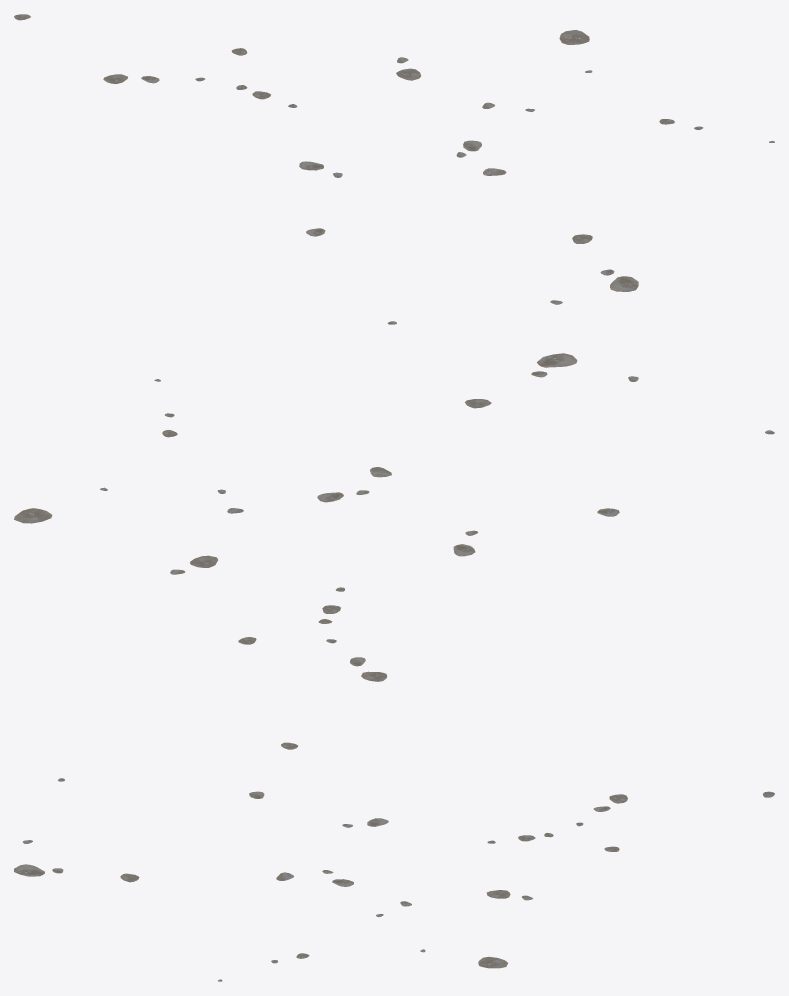
Rendered from pref_sm_beach_sandstone01_lv3.fbx.
The picture shows the model from 3 angles, top to bottom: view 1: azimuth 30°, elevation 25°; view 2: azimuth 150°, elevation 25°; view 3: azimuth 270°, elevation 25°; orthographic projection. The views are drawn at different scales.
Parts seen in each view (by area): view 1: pref_sm_beach_sandstone01_lv3; view 2: pref_sm_beach_sandstone01_lv3; view 3: pref_sm_beach_sandstone01_lv3.
Boxes of the visible parts, left/top/right/bottom form: pref_sm_beach_sandstone01_lv3: left=14, top=14, right=774, bottom=324; pref_sm_beach_sandstone01_lv3: left=14, top=353, right=774, bottom=749; pref_sm_beach_sandstone01_lv3: left=14, top=778, right=774, bottom=981.
Bounding box in the file's own units: 23.82 × 0.1457 × 37.72.
1 material, 1 textured.
